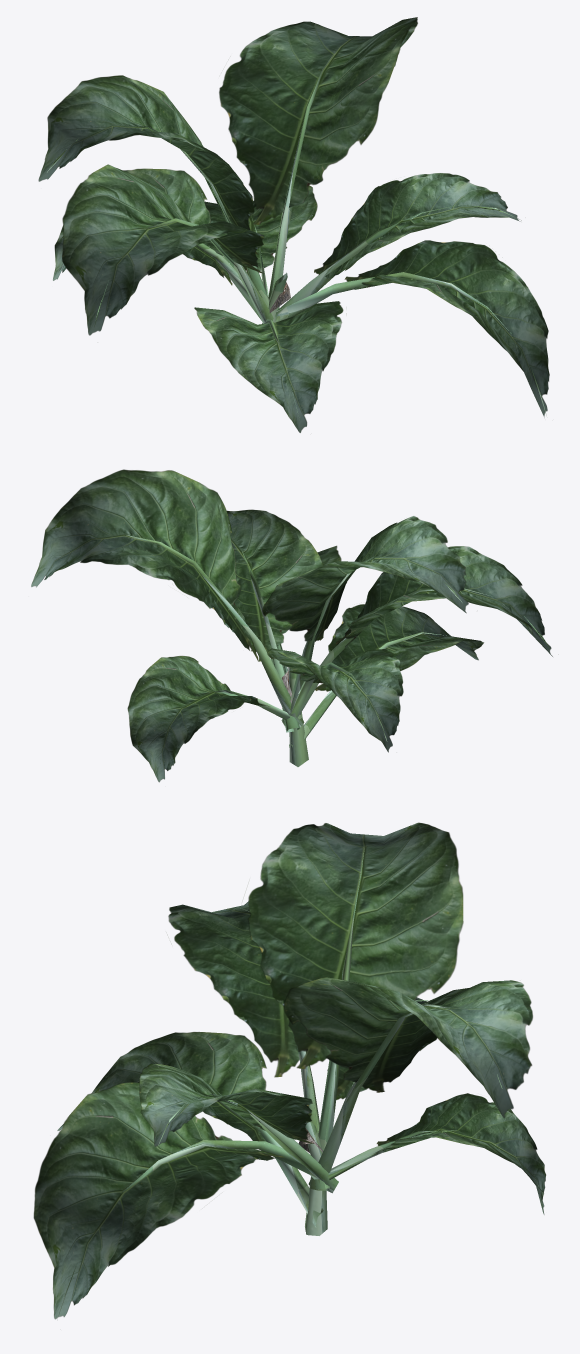
File: talas_01_A_001.glb
3 views of the same model, one above another, from view 1: azimuth 30°, elevation 25°; view 2: azimuth 150°, elevation 25°; view 3: azimuth 270°, elevation 25° (orthographic). The views are drawn at different scales.
Parts seen in each view (by area): view 1: talas_01_A.001; view 2: talas_01_A.001; view 3: talas_01_A.001.
Boxes of the visible parts, x1,y1,x2,y2 form: talas_01_A.001: (38, 17, 549, 432); talas_01_A.001: (31, 469, 552, 782); talas_01_A.001: (33, 822, 546, 1319).
Size of the model in its own units: 0.9303 by 0.5442 by 0.7982.
3 materials, 3 textured.
